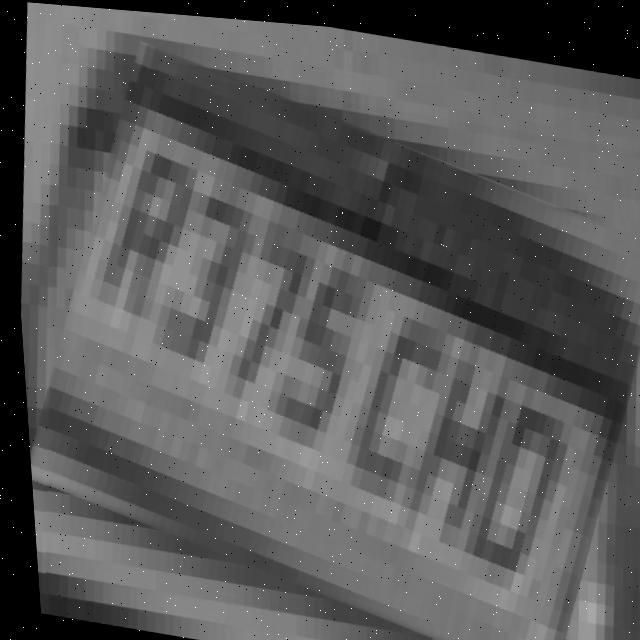LicensePlate: (10, 49, 640, 640)
